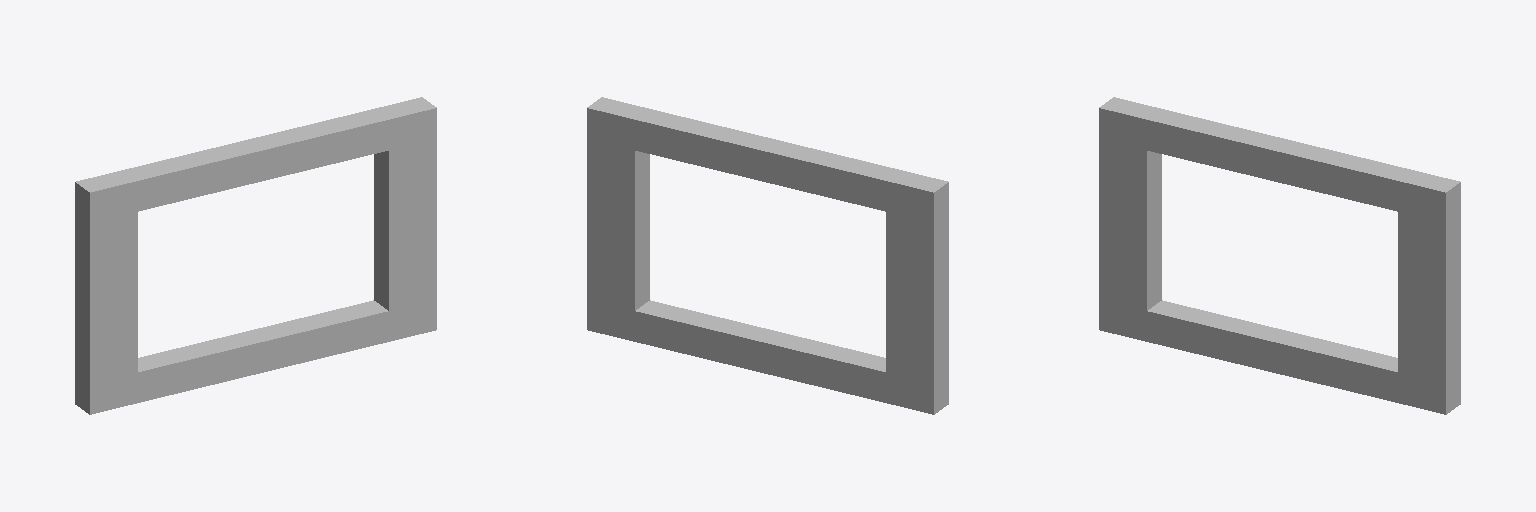
File: Entry3.OBJ
The picture shows the model from 3 angles: view 1: azimuth 30°, elevation 25°; view 2: azimuth 150°, elevation 25°; view 3: azimuth 330°, elevation 25°; orthographic projection.
Parts seen in each view (by area): view 1: Entry3_Cube.014; view 2: Entry3_Cube.014; view 3: Entry3_Cube.014.
Part boxes in pixels (left/top/right/bottom): Entry3_Cube.014: left=75, top=97, right=436, bottom=414; Entry3_Cube.014: left=587, top=97, right=948, bottom=414; Entry3_Cube.014: left=1099, top=97, right=1460, bottom=414.
Size of the model in its own units: 0.0608 by 0.0371 by 0.0045.